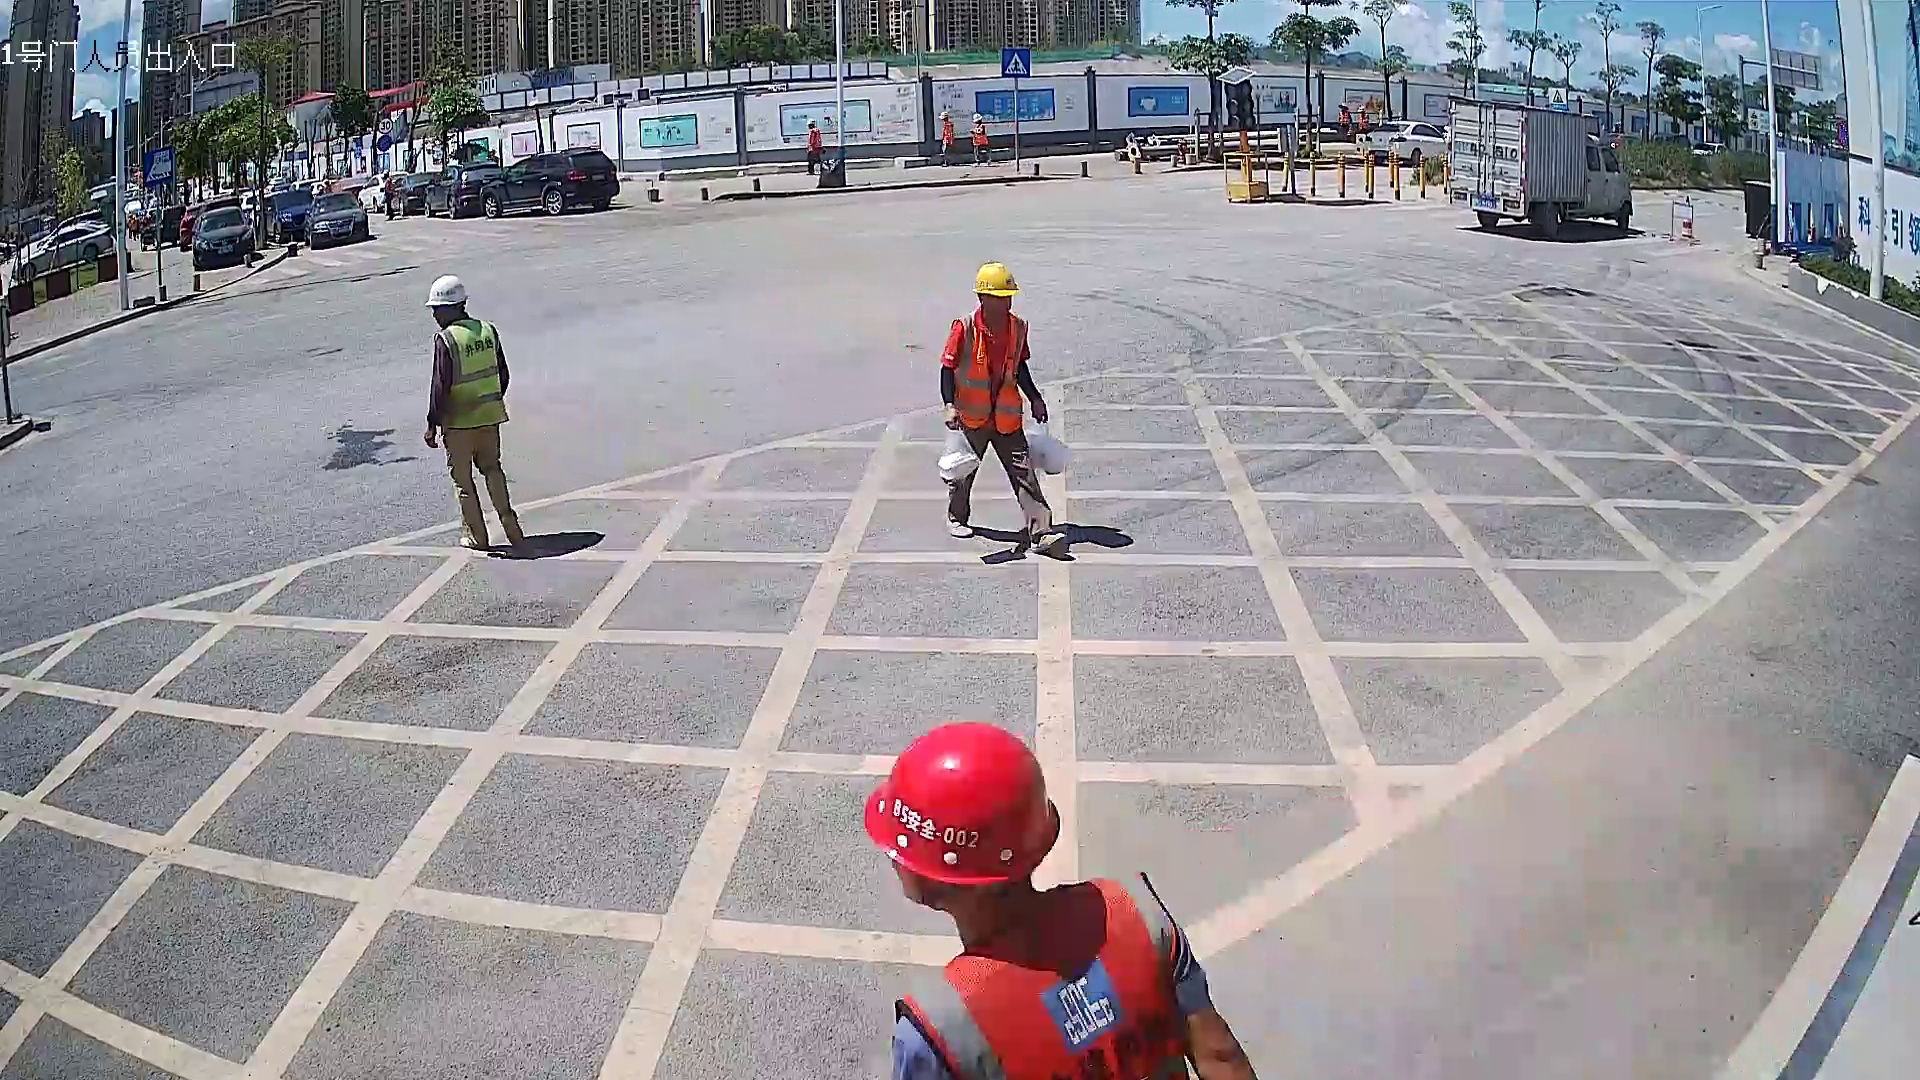person: (936, 258, 1080, 558), (421, 272, 533, 557)
reflective_vest: (895, 867, 1195, 1080), (949, 315, 1033, 435), (431, 317, 511, 434)
safety_helmet: (859, 720, 1066, 933), (970, 259, 1021, 324), (424, 272, 471, 329)
